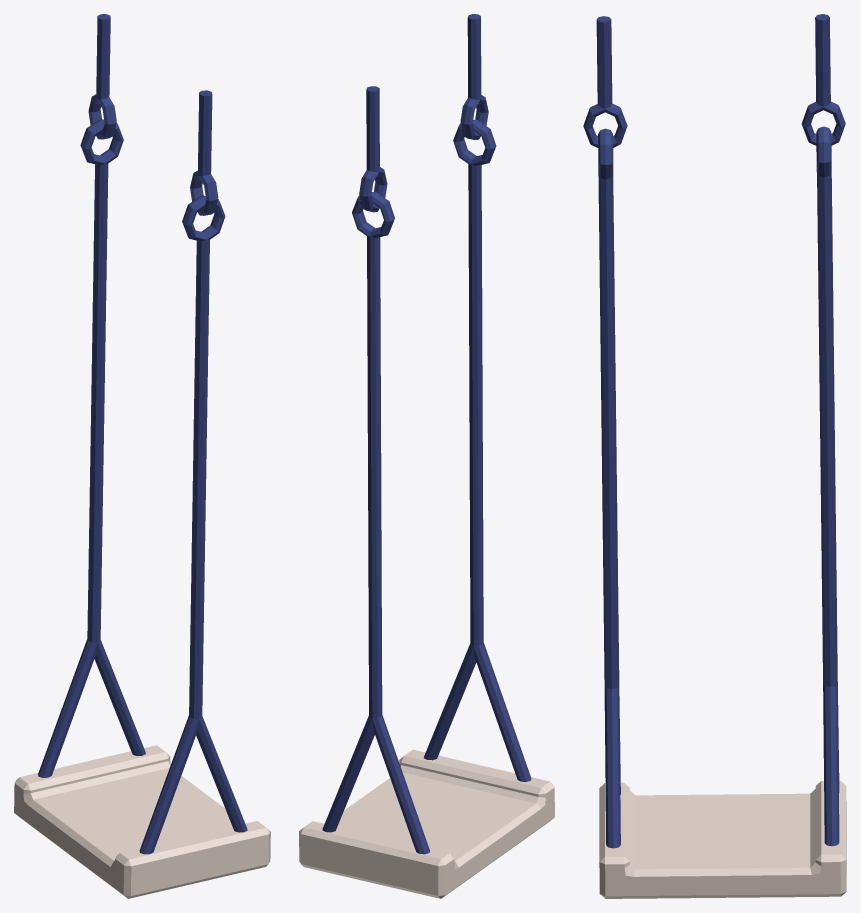
Rendered from Playground_swings2.fbx.
The picture shows the model from 3 angles, left to right: view 1: azimuth 30°, elevation 25°; view 2: azimuth 150°, elevation 25°; view 3: azimuth 270°, elevation 25°; orthographic projection. The views are drawn at different scales.
Visible parts, largest first — view 1: Playground_swings2; view 2: Playground_swings2; view 3: Playground_swings2.
Part boxes in pixels (<box>): Playground_swings2: <box>14,14,270,898</box>; Playground_swings2: <box>299,14,554,898</box>; Playground_swings2: <box>583,14,846,898</box>.
Size of the model in its own units: 36.58 by 188 by 52.78.
